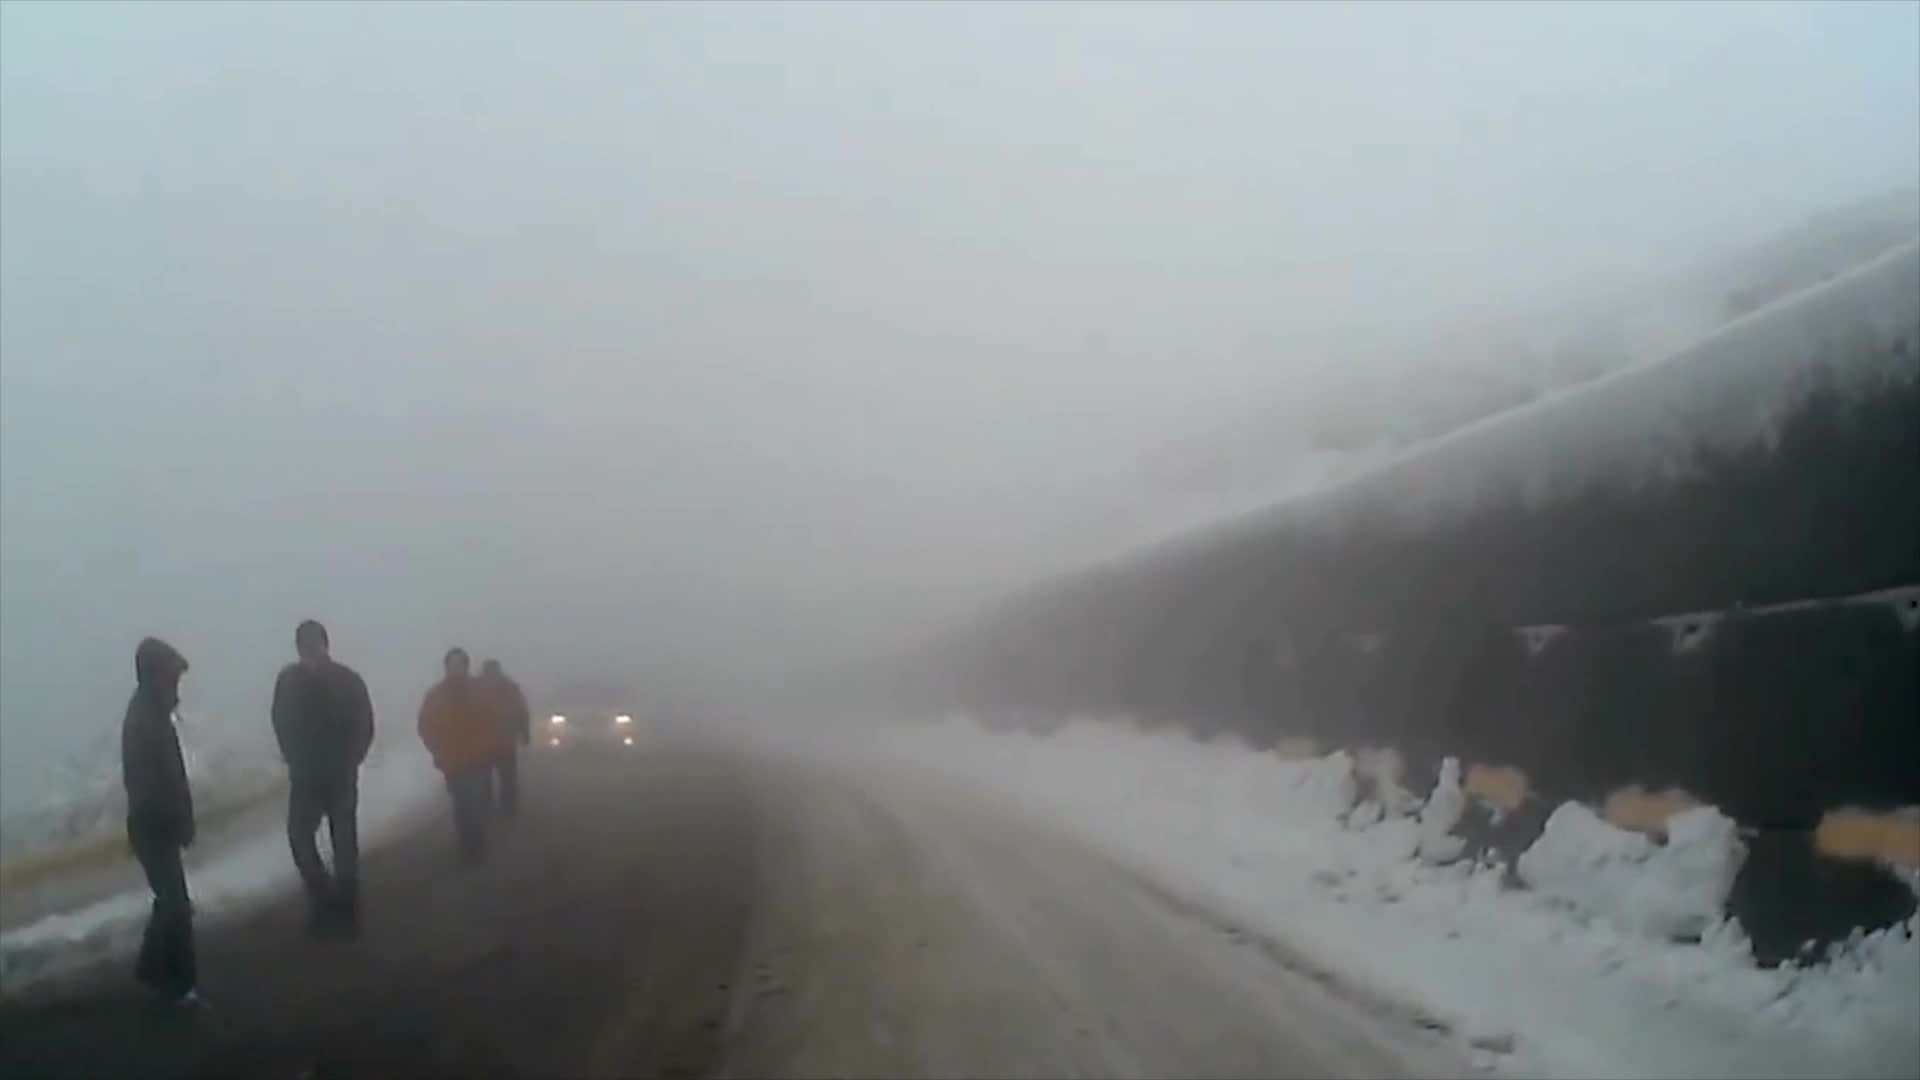pedestrian: (268, 622, 377, 942), (119, 636, 203, 1006), (414, 647, 509, 869)
vehicle: (543, 679, 639, 762)
